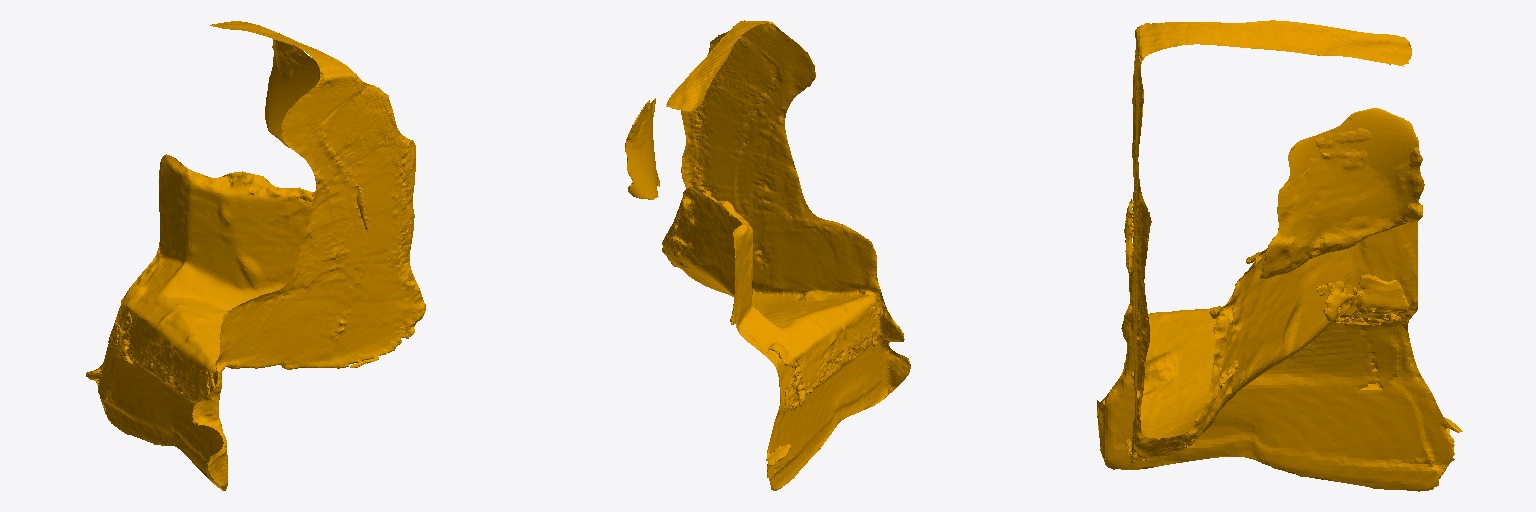
URDF robot description (obj_robot):
<?xml version="1.0" ?>
<robot name="obj_robot">
  <link name="base_link">
    <visual>
      <geometry>
        <mesh filename="BoulderingVideoByImage\simulationPyBullet\assets\climbing_wall.obj" scale="1 1 1"/>
      </geometry>
    </visual>
    <collision>
      <geometry>
        <mesh filename="BoulderingVideoByImage\simulationPyBullet\assets\climbing_wall.obj" scale="1 1 1"/>
      </geometry>
    </collision>
    <inertial>
      <mass value="2.0"/>
      <origin xyz="0 0 0" rpy="0 0 0"/>
      <inertia ixx="0.1" iyy="0.1" izz="0.1" ixy="0" ixz="0" iyz="0"/>
    </inertial>
  </link>
</robot>

--- Facts derived from the render (not from the file) ---
Views: 3 orthographic renders of the robot side by side, from view 1: azimuth 30°, elevation 25°; view 2: azimuth 150°, elevation 25°; view 3: azimuth 270°, elevation 25°.
Robot: obj_robot — 1 links, 0 joints (none); root link base_link; default pose: every joint at zero.
Visible links, largest first — view 1: base_link; view 2: base_link; view 3: base_link.
Link boxes in pixels (x1,y1,x2,y2): base_link: (86,21,425,490); base_link: (625,20,910,490); base_link: (1097,20,1462,491).
Bounding box of the posed robot: 4.92 × 4.79 × 7.88 m (x, y, z).
1 mesh visuals loaded from 1 distinct referenced files (1 OBJ).